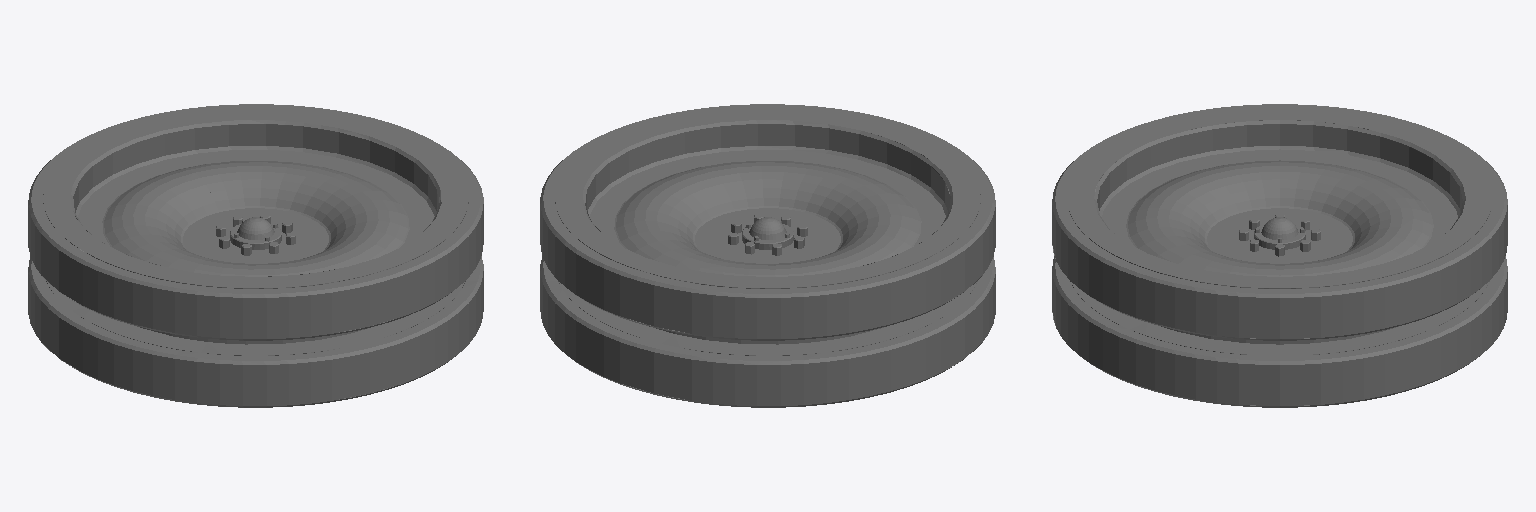
File: Roller_L.obj
3 views of the same model, side by side, from view 1: azimuth 30°, elevation 25°; view 2: azimuth 150°, elevation 25°; view 3: azimuth 270°, elevation 25° (orthographic).
Visible parts, largest first — view 1: Roller_L_Object_1Mesh_Mesh.002; view 2: Roller_L_Object_1Mesh_Mesh.002; view 3: Roller_L_Object_1Mesh_Mesh.002.
Part boxes in pixels (left/top/right/bottom): Roller_L_Object_1Mesh_Mesh.002: left=28, top=104, right=483, bottom=407; Roller_L_Object_1Mesh_Mesh.002: left=540, top=104, right=995, bottom=407; Roller_L_Object_1Mesh_Mesh.002: left=1052, top=104, right=1507, bottom=407.
Size of the model in its own units: 0.61 by 0.17 by 0.61.